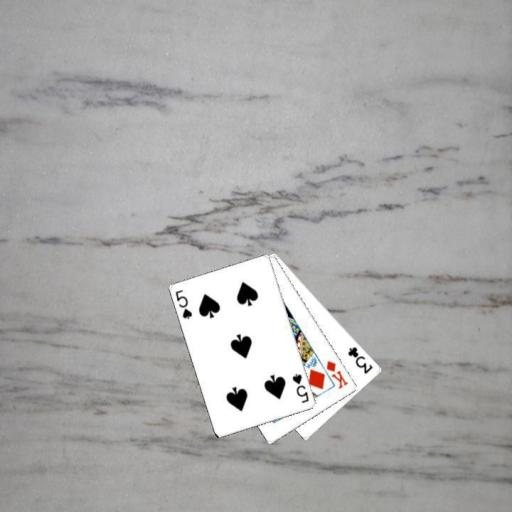card-corner: (345, 344, 375, 376), (323, 357, 350, 390), (289, 370, 311, 404), (173, 286, 194, 320)
